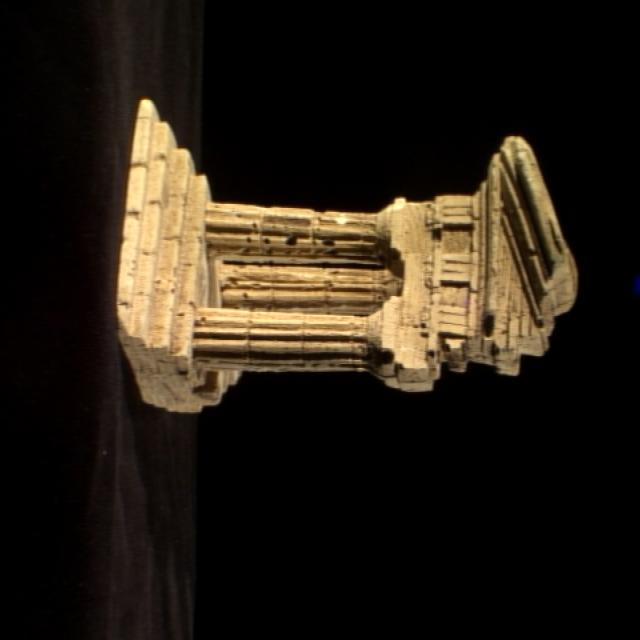Instance-Segmentation: (117, 99, 577, 411)
